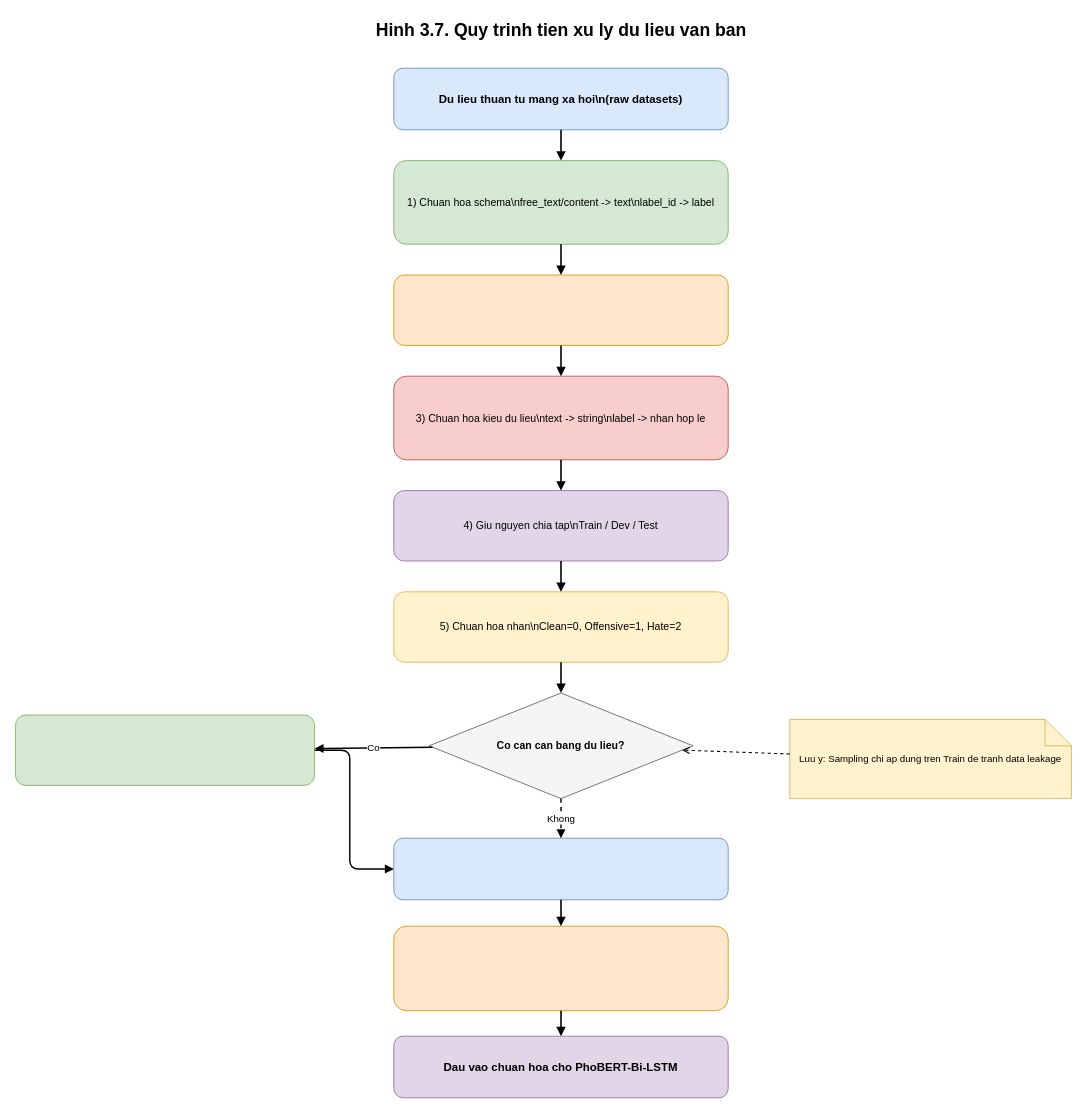
The diagram is 1087 pixels wide and 1113 high, and some of its shapes have lost their labels. Each missing label, with the box of its shape:
2) Loai bo mau loi\ndropna(text, label): (393, 274, 728, 345)
6) Sampling chi tren Train\n(Dev/Test giu phan bo goc): (15, 714, 315, 785)
7) Tokenization theo PhoBERT\ntruncation, attention mask,\npadding theo batch: (393, 925, 728, 1011)
Tap du lieu dau vao cho tokenizer: (393, 837, 728, 900)
